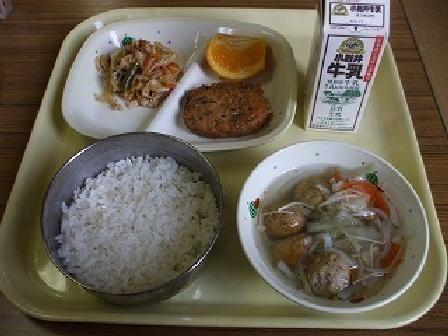Citrus: (200, 26, 271, 79)
Meat: (179, 79, 271, 139)
Milk: (297, 1, 393, 131)
Rice: (41, 139, 226, 305)
meat based soup: (250, 146, 419, 317)
vegetable based cooked food: (92, 33, 183, 111)
